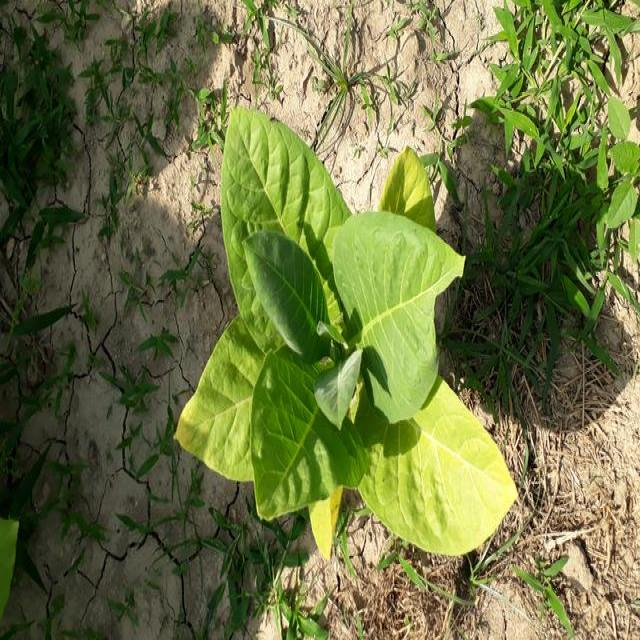crop: (174, 95, 511, 561)
